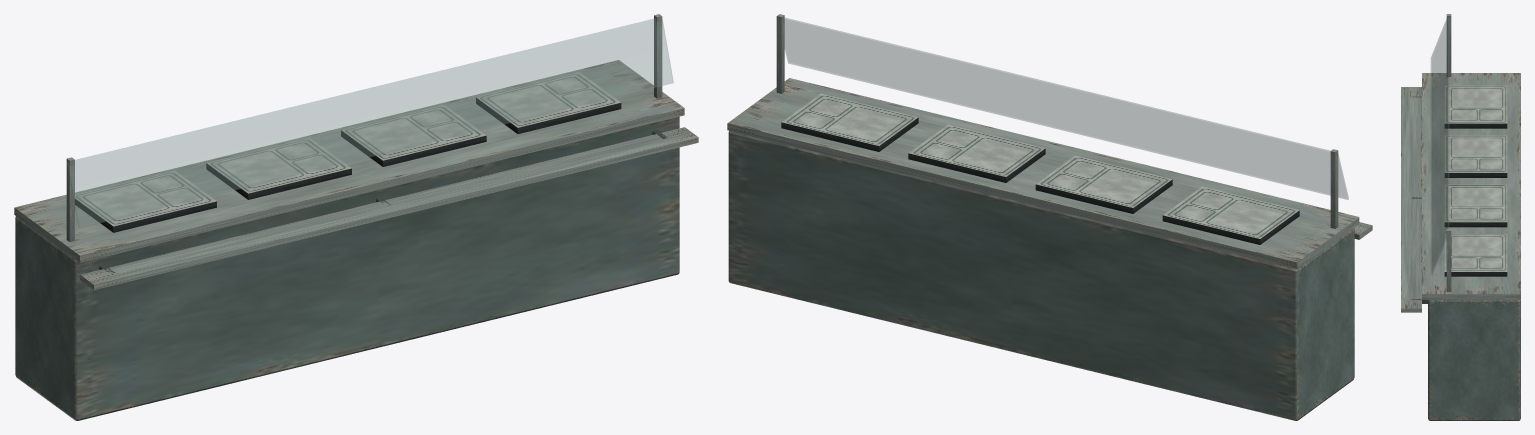
File: serving_counter.glb
3 renders of one model, left to right at view 1: azimuth 30°, elevation 25°; view 2: azimuth 150°, elevation 25°; view 3: azimuth 270°, elevation 25°, orthographic. The views are drawn at different scales.
Parts seen in each view (by area): view 1: ServingCounter; view 2: ServingCounter; view 3: ServingCounter.
Boxes of the visible parts, x1,y1,x2,y2 form: ServingCounter: [14, 14, 698, 420]; ServingCounter: [727, 14, 1372, 420]; ServingCounter: [1401, 14, 1520, 420].
Size of the model in its own units: 3.5 by 1.39 by 0.8.
Materials: 2 (1 with a texture image).
